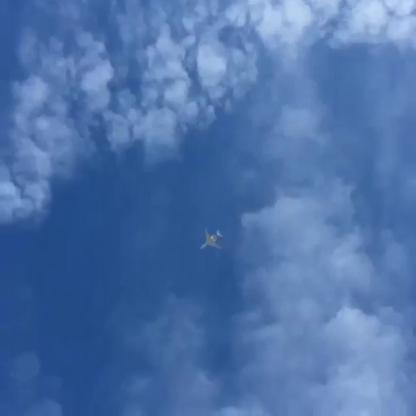CIV_Plane: (198, 224, 226, 258)
